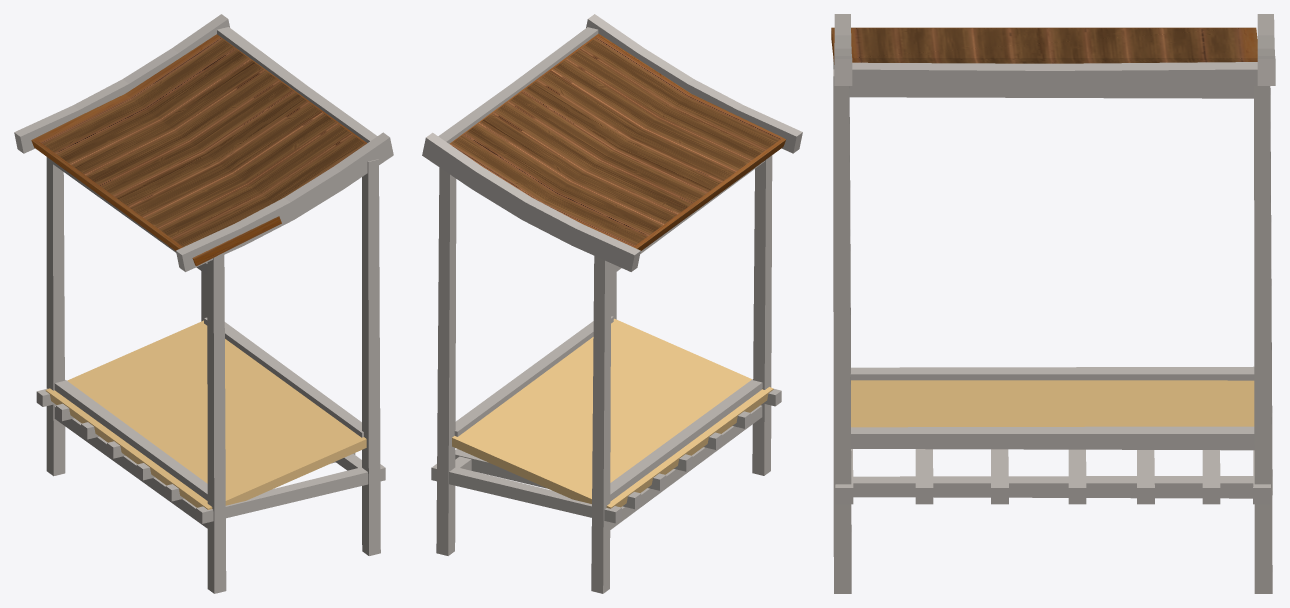
File: Store_G.fbx
3 renders of one model, left to right at view 1: azimuth 30°, elevation 25°; view 2: azimuth 150°, elevation 25°; view 3: azimuth 270°, elevation 25°, orthographic. The views are drawn at different scales.
Parts seen in each view (by area): view 1: Store_G; view 2: Store_G; view 3: Store_G.
Boxes of the visible parts, x1,y1,x2,y2 form: Store_G: (14,14,393,593); Store_G: (422,14,802,593); Store_G: (831,14,1275,593).
Size of the model in its own units: 248 by 463 by 344.
